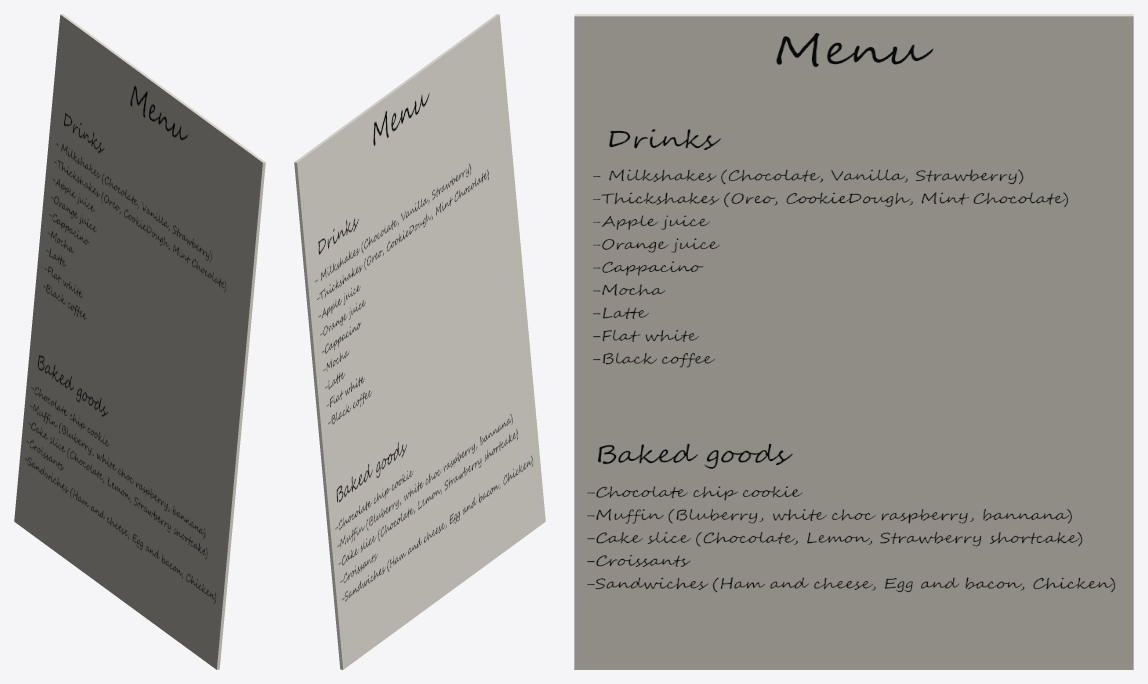
File: menu.fbx
The picture shows the model from 3 angles, left to right: view 1: azimuth 30°, elevation 25°; view 2: azimuth 150°, elevation 25°; view 3: azimuth 270°, elevation 25°; orthographic projection. The views are drawn at different scales.
Visible parts, largest first — view 1: Cube; view 2: Cube; view 3: Cube.
Boxes of the visible parts, x1=… form: Cube: x1=14, y1=14, x2=265, y2=669; Cube: x1=294, y1=14, x2=545, y2=669; Cube: x1=574, y1=14, x2=1133, y2=669.
Size of the model in its own units: 4.92 by 47.6 by 35.22.
1 material, 1 textured.
